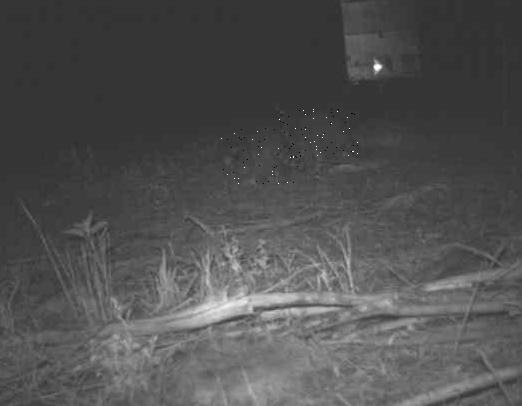Raccoon: (220, 127, 305, 184), (277, 109, 357, 159)
